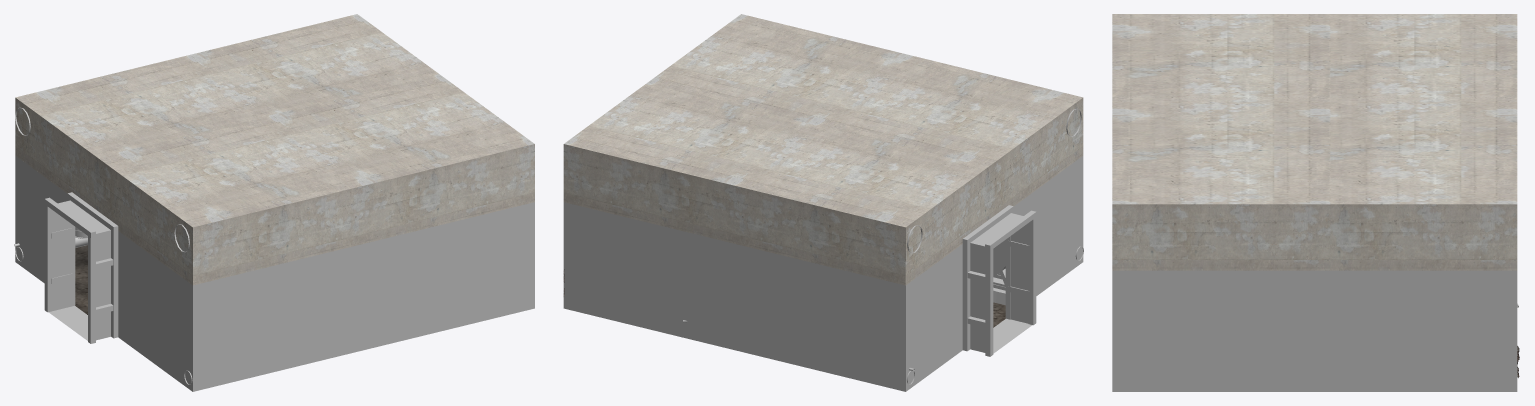
Rendered from Tech_room.FBX.
The picture shows the model from 3 angles, left to right: view 1: azimuth 30°, elevation 25°; view 2: azimuth 150°, elevation 25°; view 3: azimuth 270°, elevation 25°; orthographic projection. The views are drawn at different scales.
Visible parts, largest first — view 1: Tech_room_cell, Tech_room_wall, Door_plank, Tech_room_floor; view 2: Tech_room_cell, Tech_room_wall, Door_plank, Boyler_01; view 3: Tech_room_cell, Tech_room_wall.
Part boxes in pixels (bbox=[...]): Tech_room_cell: bbox=[15, 14, 534, 285]; Tech_room_wall: bbox=[15, 156, 534, 391]; Door_plank: bbox=[44, 192, 118, 343]; Tech_room_floor: bbox=[75, 245, 87, 314]; Tech_room_cell: bbox=[563, 14, 1083, 285]; Tech_room_wall: bbox=[563, 156, 1083, 391]; Door_plank: bbox=[962, 205, 1036, 356]; Boyler_01: bbox=[993, 240, 1005, 290]; Tech_room_cell: bbox=[1112, 14, 1517, 270]; Tech_room_wall: bbox=[1112, 270, 1517, 391].
Size of the model in its own units: 872 by 372 by 732.
